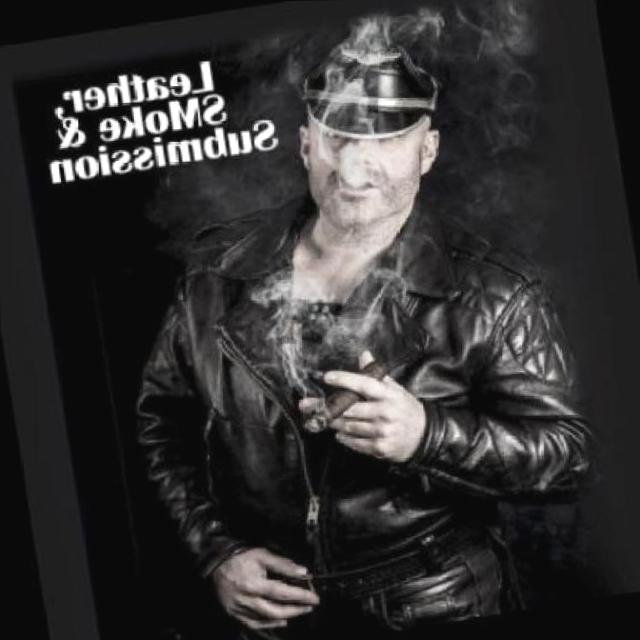smoke: (289, 357, 403, 440)
